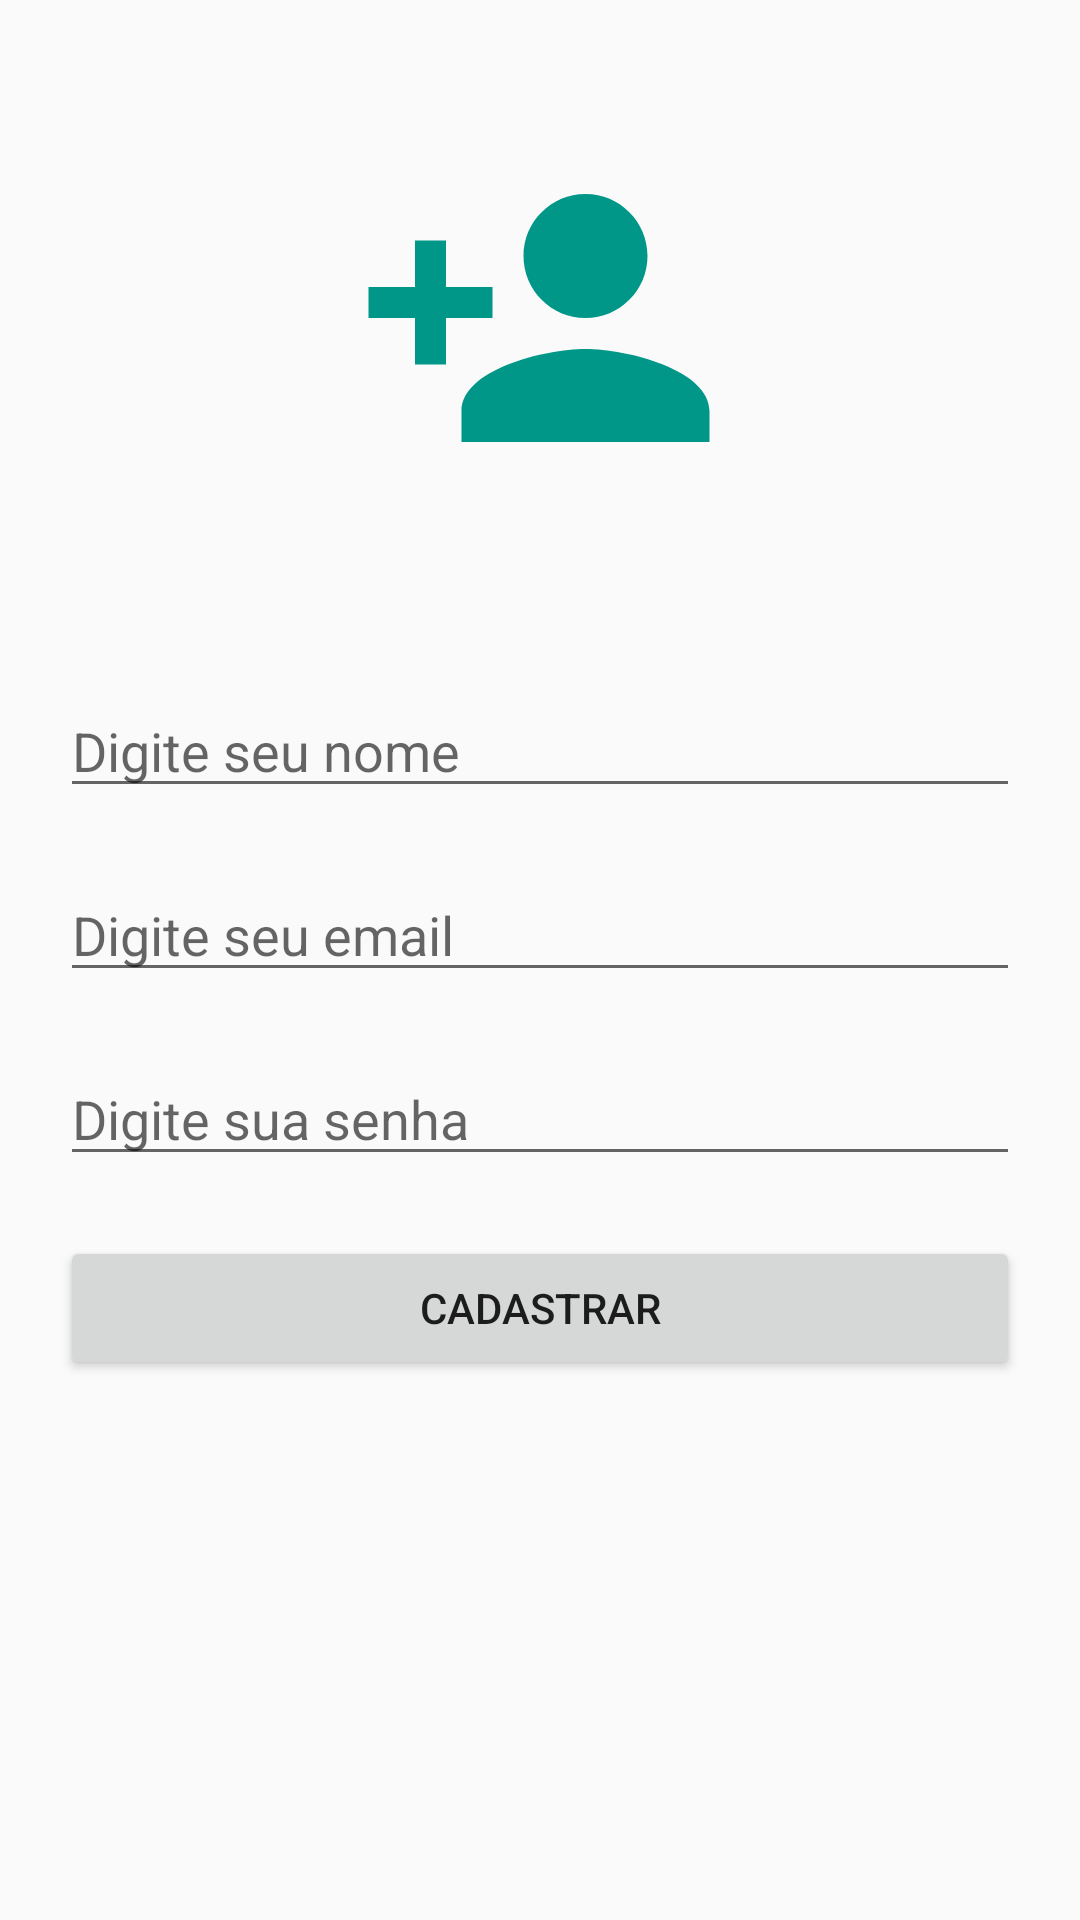

Icon click points for this 1080*1920 phone screenshot, format [x,y]:
person add: [539,318]
